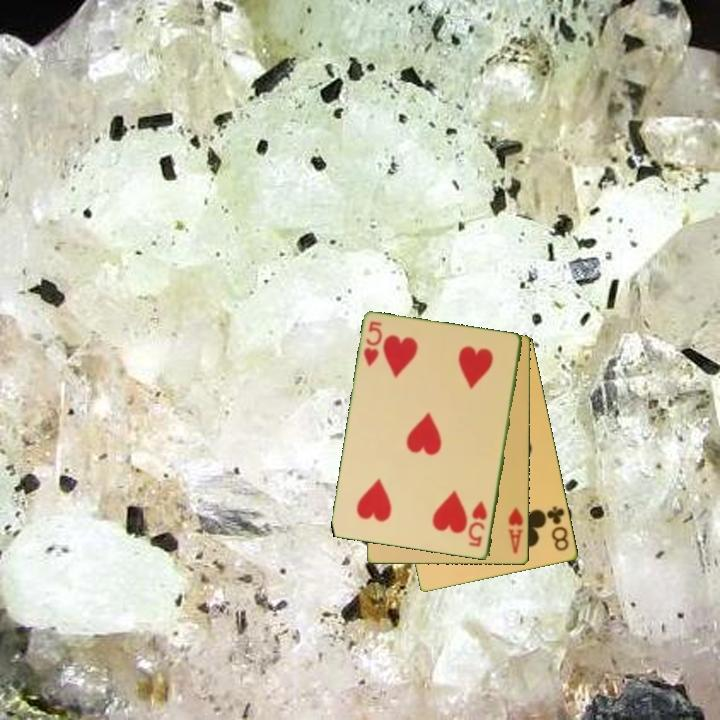5h: (360, 318, 385, 369), (466, 498, 490, 550)
8c: (543, 503, 572, 554)
Ah: (504, 504, 526, 556)
